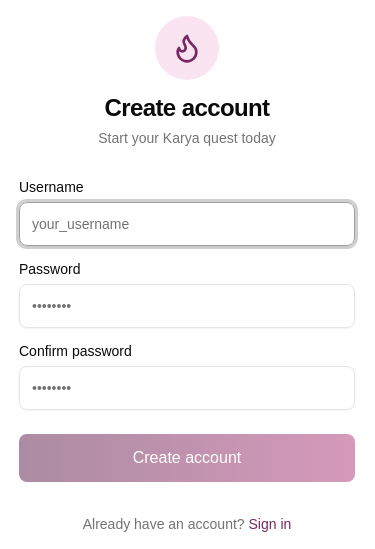
it: submit button is enabled when all fields are valid and matching
The width and height of the screenshot is (375, 549).
Type "hero" into the field labelled "Username".
click(187, 224); type("hero")  # box [19,202,355,246]
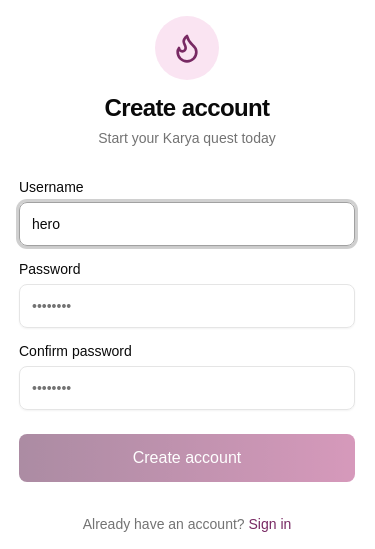
Type "password1" into the password field labelled "Password".
click(187, 306); type("password1")  # box [19,284,355,328]
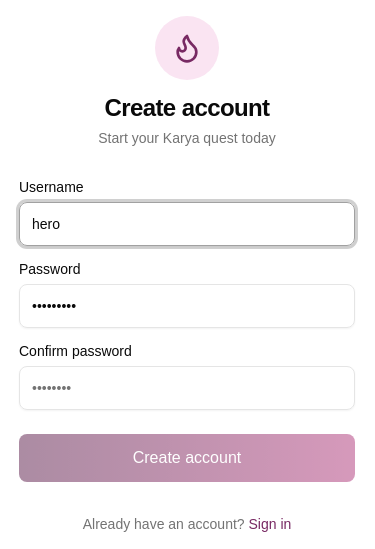
Type "password1" into the password field labelled "Confirm password".
click(187, 388); type("password1")  # box [19,366,355,410]
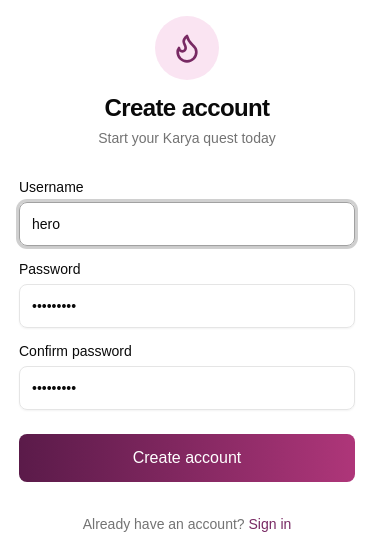
Expected: the button "Create account" is enabled, [19,434,355,482]
